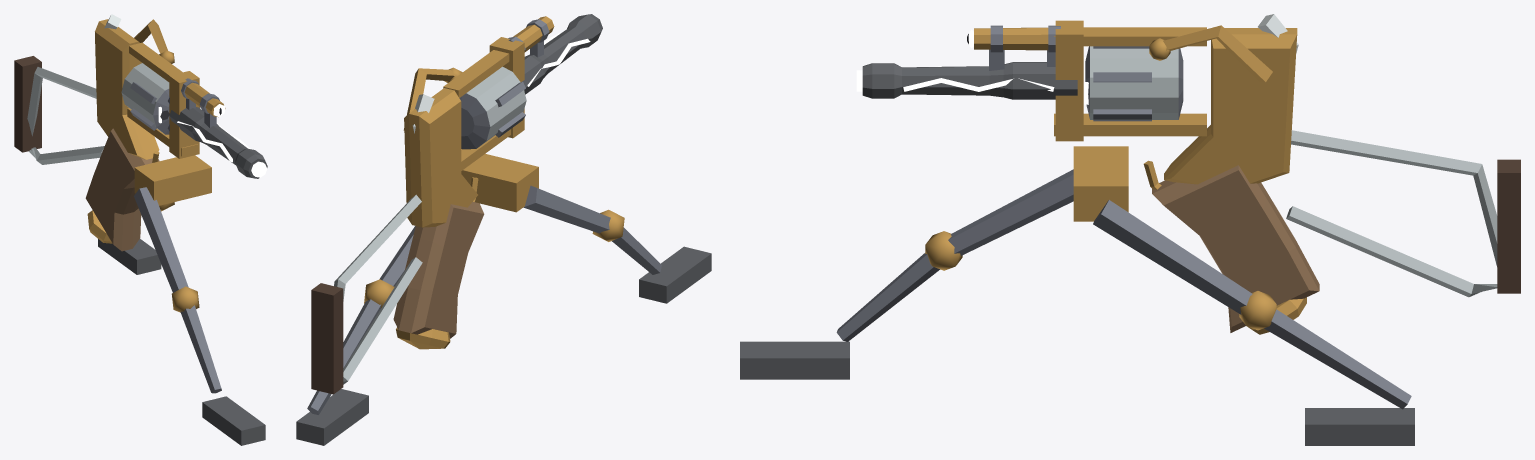
Rendered from gun-skirmisher.glb.
The picture shows the model from 3 angles, left to right: view 1: azimuth 30°, elevation 25°; view 2: azimuth 150°, elevation 25°; view 3: azimuth 270°, elevation 25°; orthographic projection. The views are drawn at different scales.
Visible parts, largest first — view 1: gun-skirmisher, pulse_vein; view 2: gun-skirmisher; view 3: gun-skirmisher.
Part boxes in pixels (x1=…): gun-skirmisher: x1=14, y1=14, x2=267, y2=445; pulse_vein: x1=177, y1=121, x2=250, y2=162; gun-skirmisher: x1=296, y1=14, x2=711, y2=445; gun-skirmisher: x1=740, y1=14, x2=1520, y2=445.
Size of the model in its own units: 0.25 by 0.5553 by 0.995.
